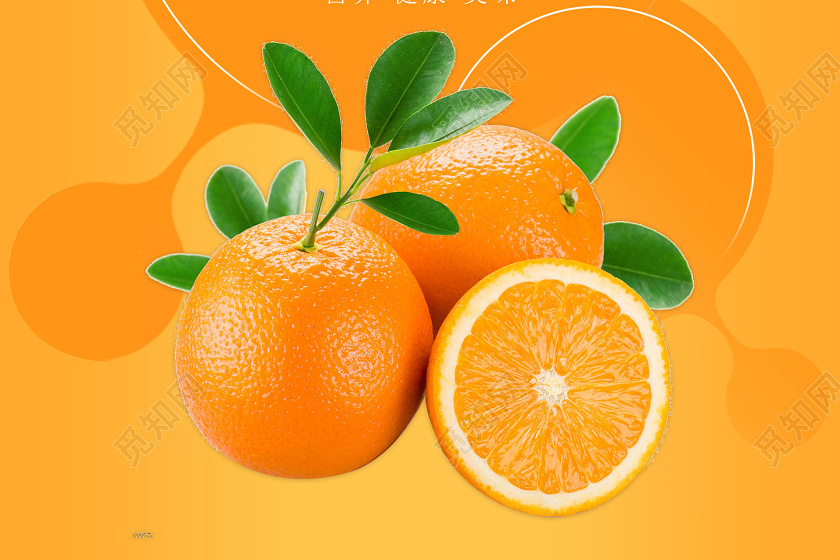orange: (176, 214, 432, 482), (433, 257, 679, 520), (360, 116, 613, 338)
